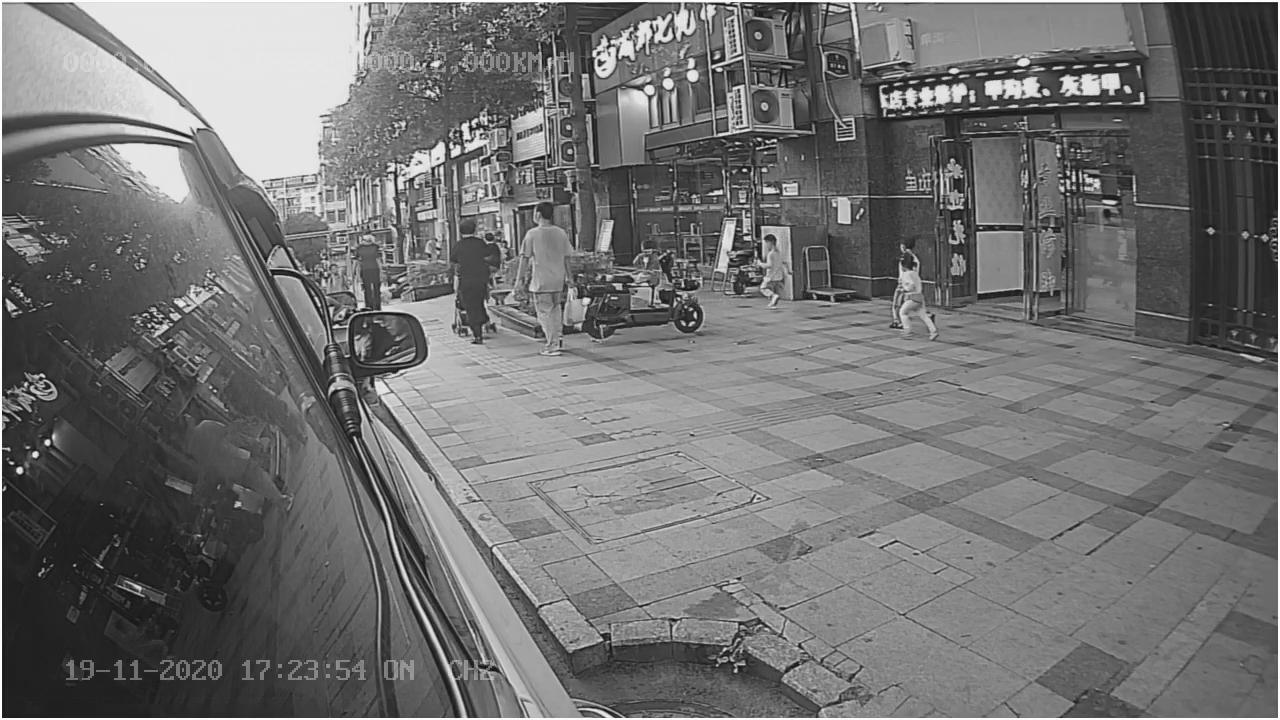person: (515, 197, 579, 362), (441, 210, 499, 346), (894, 252, 949, 344), (749, 230, 798, 307)
